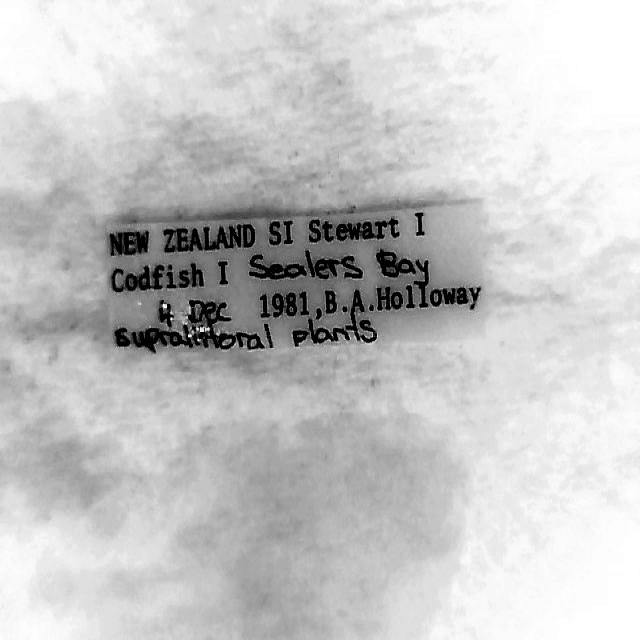mixed_label: (106, 202, 482, 351)
